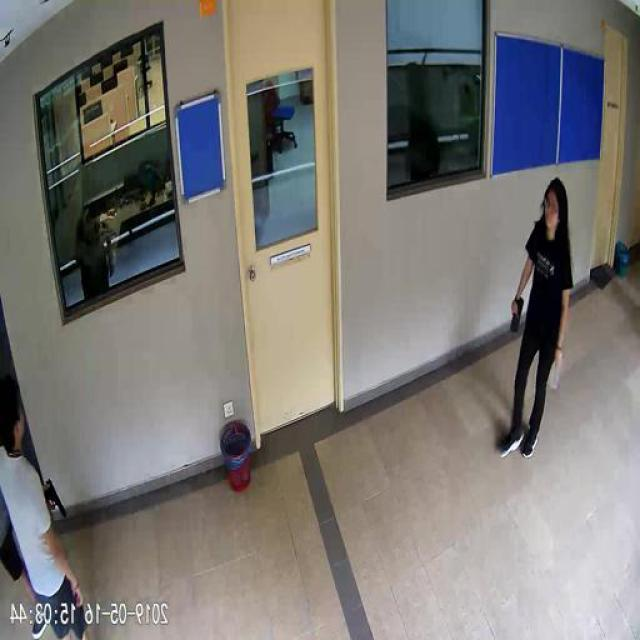Gun: (46, 476, 69, 515)
